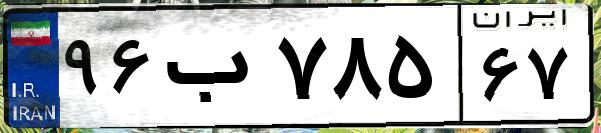5: (385, 28, 445, 110)
6: (475, 38, 525, 113), (110, 28, 158, 98)
7: (270, 28, 330, 110), (525, 38, 570, 115)
8: (330, 28, 385, 110)
9: (57, 26, 110, 100)
ب: (158, 20, 270, 120)
